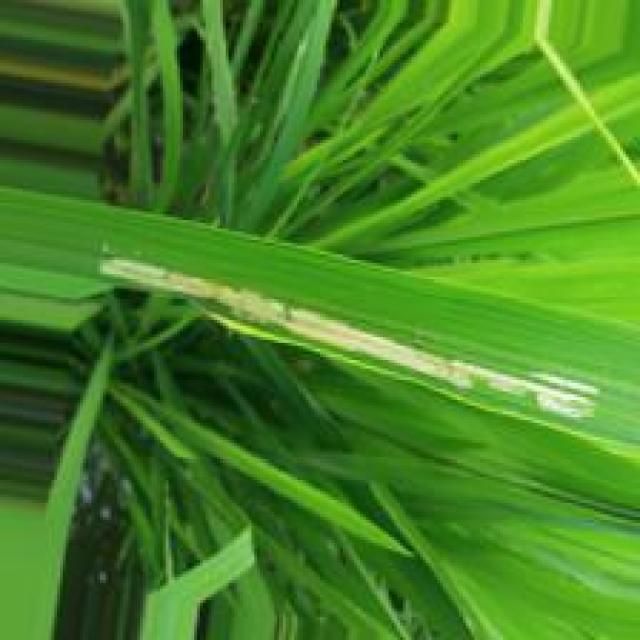Rice_Hispa: (86, 260, 600, 421)
